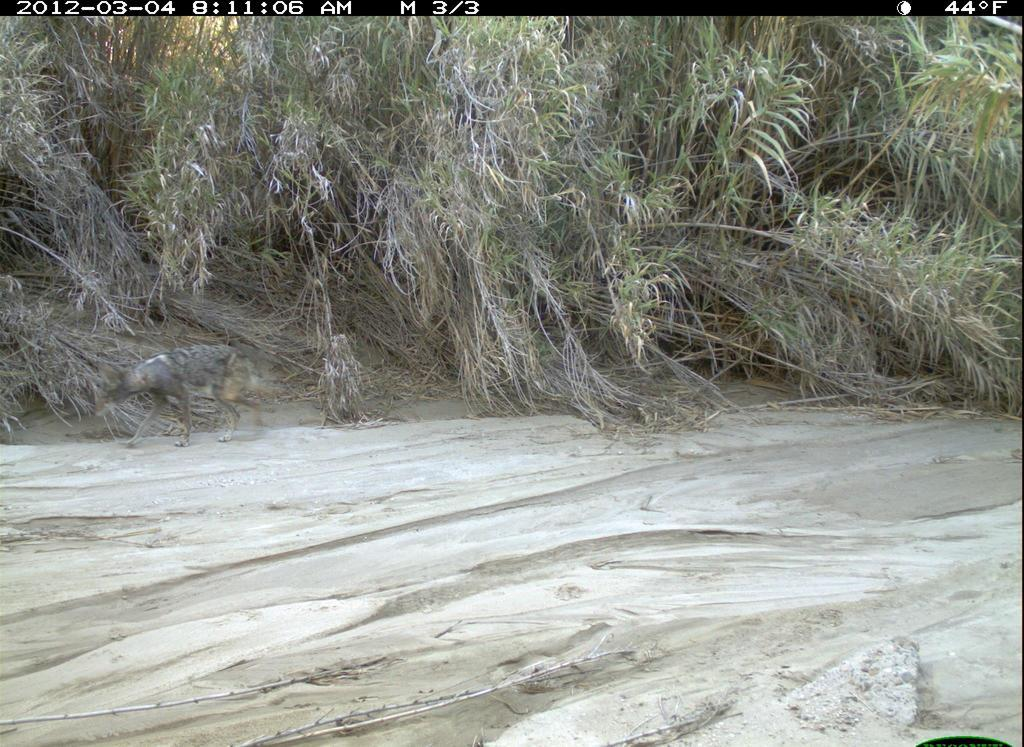coyote: (94, 338, 258, 452)
